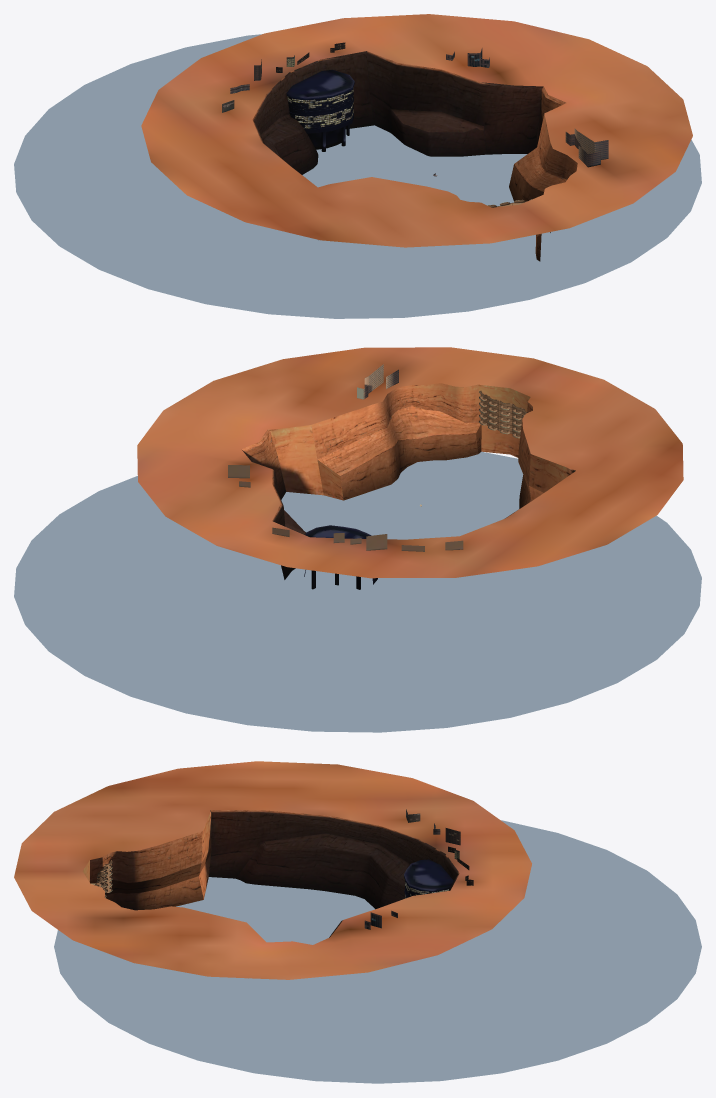
File: room.glb
The picture shows the model from 3 angles, top to bottom: view 1: azimuth 30°, elevation 25°; view 2: azimuth 150°, elevation 25°; view 3: azimuth 270°, elevation 25°; orthographic projection. The views are drawn at different scales.
Visible parts, largest first — view 1: CliffVista_mesh_CliffsVistaMat_0, GroundPlaneMesh; view 2: GroundPlaneMesh, CliffVista_mesh_CliffsVistaMat_0, MeetingSpace1_mesh_MeetingSpaceMat_0; view 3: GroundPlaneMesh, CliffVista_mesh_CliffsVistaMat_0.
Boxes of the visible parts, bbox=[...] form: CliffVista_mesh_CliffsVistaMat_0: bbox=[141, 14, 692, 261]; GroundPlaneMesh: bbox=[14, 34, 701, 318]; GroundPlaneMesh: bbox=[14, 451, 701, 732]; CliffVista_mesh_CliffsVistaMat_0: bbox=[137, 347, 683, 589]; MeetingSpace1_mesh_MeetingSpaceMat_0: bbox=[479, 391, 527, 438]; GroundPlaneMesh: bbox=[54, 820, 701, 1083]; CliffVista_mesh_CliffsVistaMat_0: bbox=[14, 761, 531, 979].
Size of the model in its own units: 928 by 151 by 986.
Materials: 4 (3 with a texture image).
